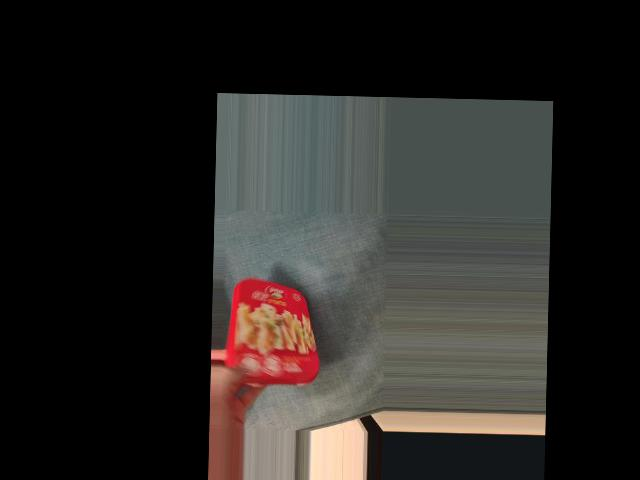cheese: (226, 279, 316, 391)
